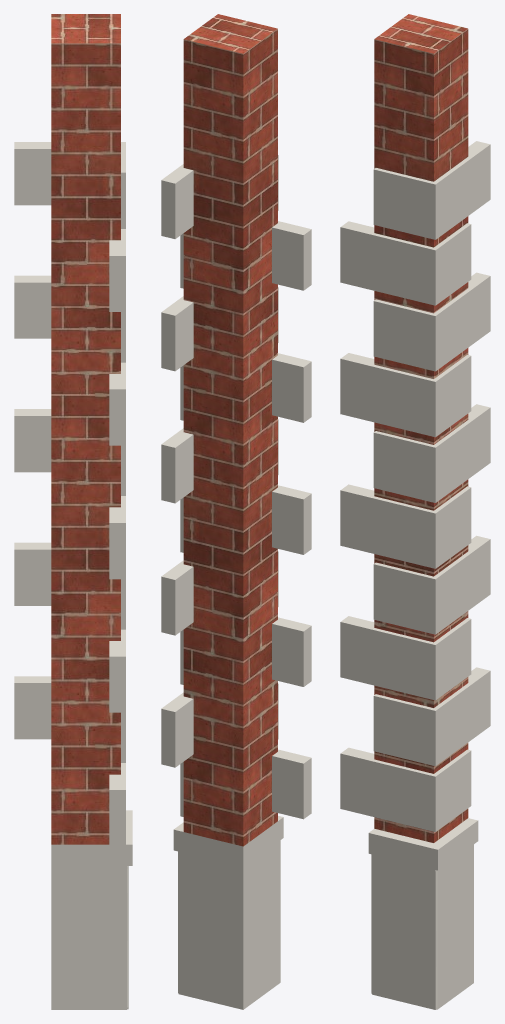
Rendered from po_corner.glb.
The picture shows the model from 3 angles, left to right: view 1: azimuth 90°, elevation 25°; view 2: azimuth 150°, elevation 25°; view 3: azimuth 330°, elevation 25°; orthographic projection.
Visible parts, largest first — view 1: po_corner_brick, po_corner_lime; view 2: po_corner_brick, po_corner_lime; view 3: po_corner_lime, po_corner_brick.
Boxes of the visible parts, <box> form: po_corner_brick: <box>51,14,120,844</box>; po_corner_lime: <box>14,142,132,1009</box>; po_corner_brick: <box>183,14,277,846</box>; po_corner_lime: <box>161,155,311,1009</box>; po_corner_lime: <box>340,141,490,1009</box>; po_corner_brick: <box>374,14,468,842</box>.
Bounding box in the file's own units: 0.61 × 5.5 × 0.61.
Materials: 2 (1 with a texture image).
